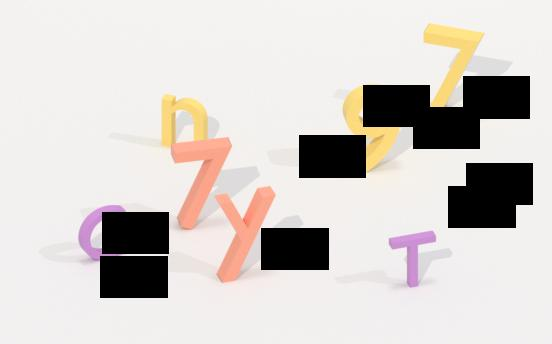7: (169, 133, 234, 235), (420, 21, 487, 118)
9: (342, 80, 403, 176)
Y: (211, 182, 279, 286)
c: (74, 199, 130, 264)
n: (159, 92, 209, 158)
t-hoa: (384, 220, 444, 295)
